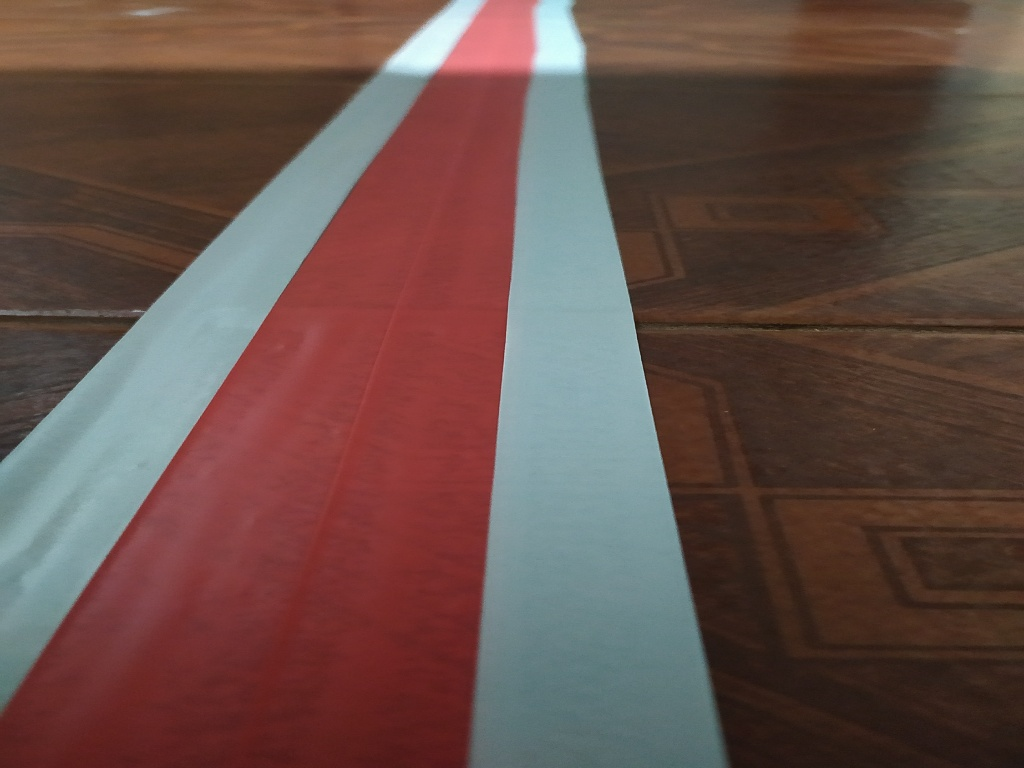reta: (1, 4, 732, 760)
